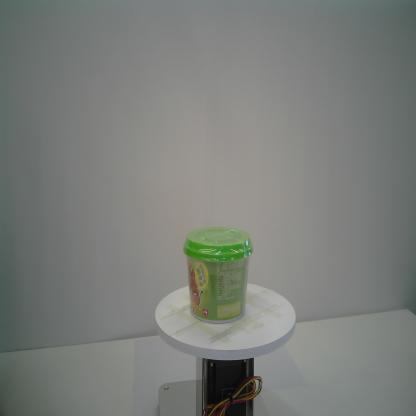Instant Drink: (182, 226, 254, 326)
